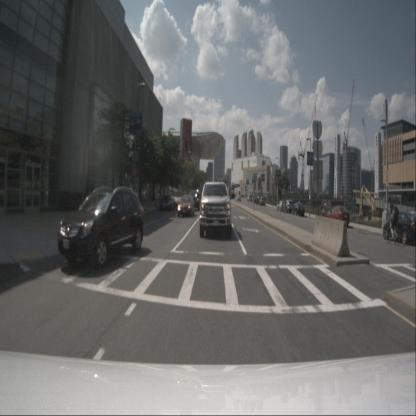movable_object-barrier: (311, 215, 350, 257)
vehicle-bicycle: (385, 201, 400, 246)
vehicle-car: (57, 186, 144, 269), (199, 181, 232, 238), (382, 211, 416, 245), (327, 204, 350, 227), (177, 194, 194, 217), (160, 194, 175, 212), (188, 189, 200, 211), (291, 202, 305, 216), (282, 199, 294, 214), (276, 200, 286, 212), (258, 196, 266, 206), (256, 196, 262, 204), (247, 194, 253, 202), (236, 193, 241, 202), (252, 194, 257, 203)
